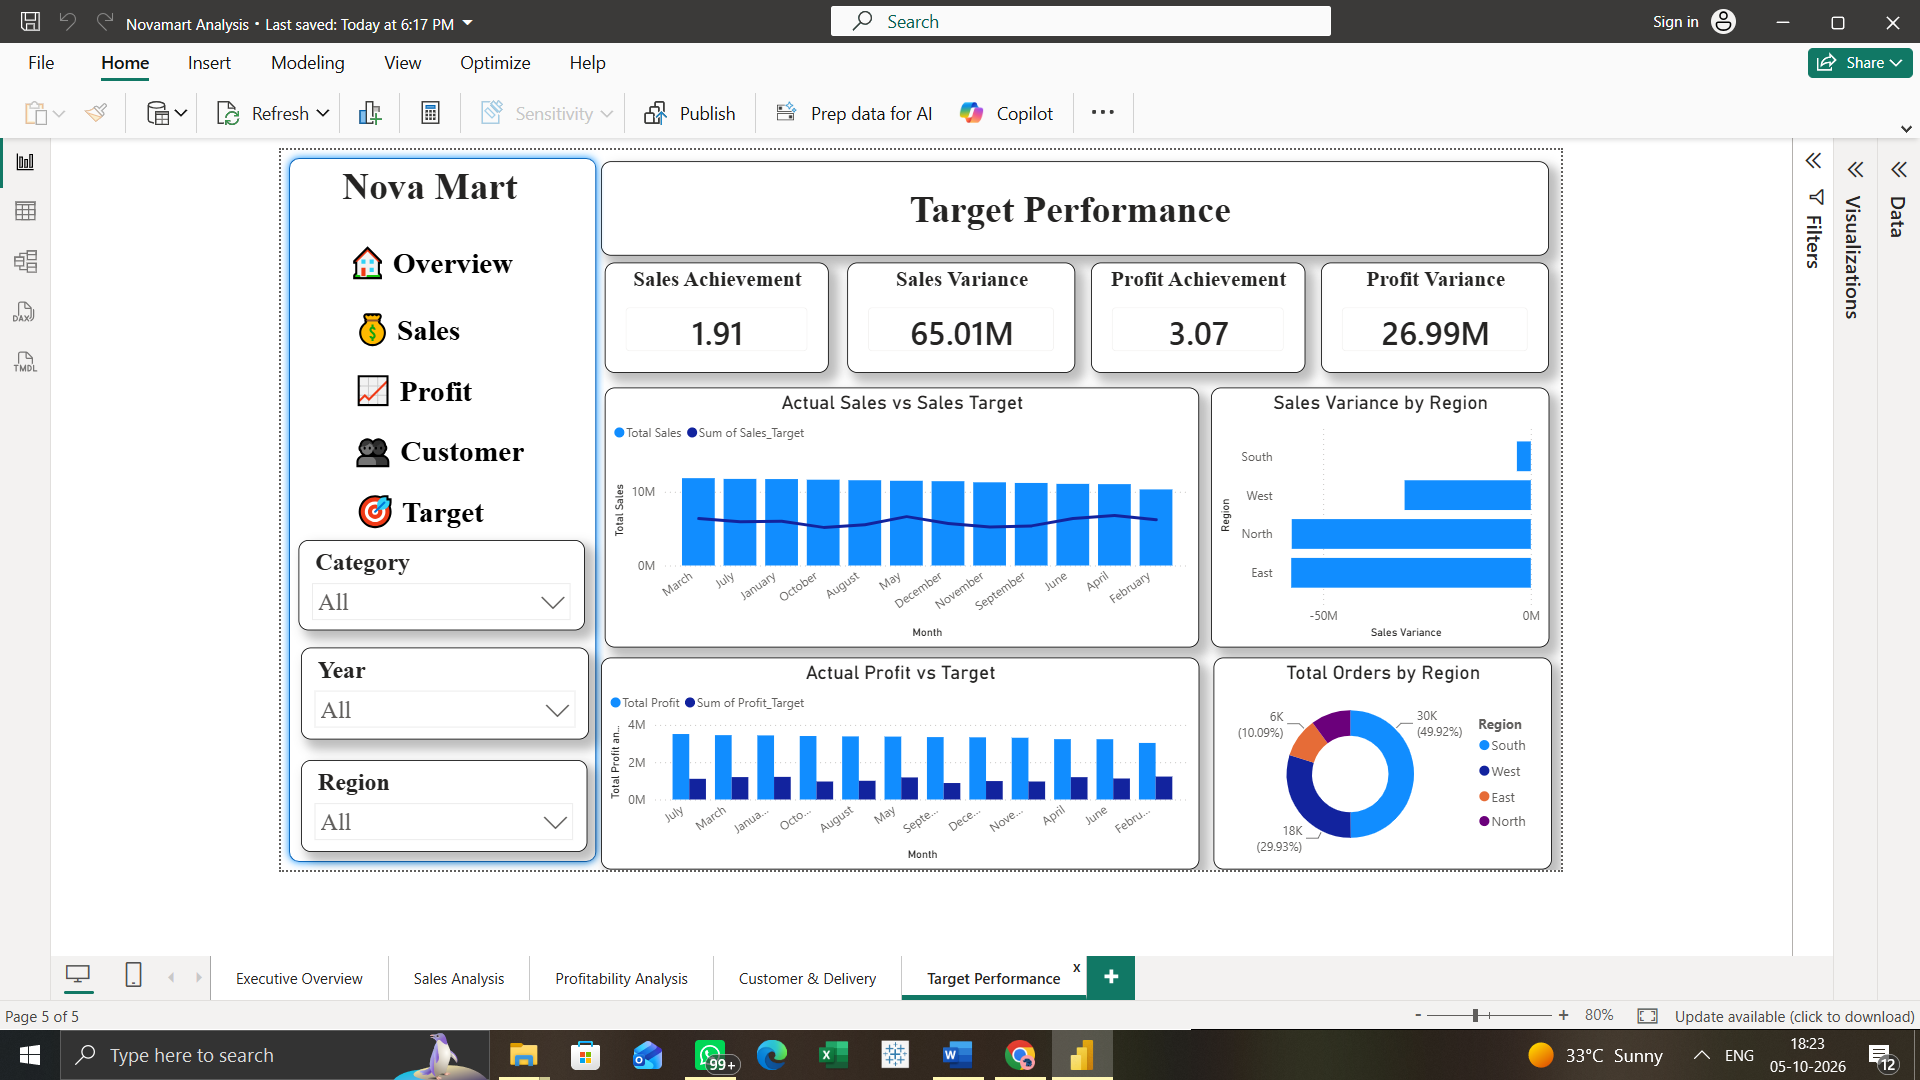

This screenshot's page, from the dashboard's own definition file:
{"tool":"powerbi","page":{"name":"Target Performance","canvas":[1280,720],"ordinal":4},"visuals":[{"type":"group","id":"g1","title":"Group 1","box":[0,0,1267.9,720],"z":0},{"type":"textbox","box":[319.7,11,948.2,94.7],"z":0,"group":"g1"},{"type":"shape","box":[0,0,323.3,720],"z":1000,"group":"g1"},{"type":"cardVisual","title":"Sales Achievement","fields":{"Data":["_Measures.Sales Achievement %"]},"box":[324,112,224,110],"z":1000},{"type":"textbox","box":[56,10,200,66],"z":2000,"group":"g1"},{"type":"cardVisual","title":"Sales Variance","fields":{"Data":["_Measures.Sales Variance"]},"box":[566,112,228,110],"z":2000},{"type":"actionButton","box":[58,76,186,70],"z":3000,"group":"g1"},{"type":"cardVisual","title":"Profit Variance","fields":{"Data":["_Measures.Profit Variance"]},"box":[1040,112,228,110],"z":3000},{"type":"cardVisual","title":"Profit Achievement","fields":{"Data":["_Measures.Profit Achievement %"]},"box":[810,112,214,110],"z":4000},{"type":"actionButton","box":[62,146,186,60],"z":4000,"group":"g1"},{"type":"actionButton","box":[46,206,172,64],"z":5000,"group":"g1"},{"type":"slicer","fields":{"Values":["Geography.Region"]},"box":[20,610,286,92],"z":5000},{"type":"actionButton","box":[58,270,200,56],"z":6000,"group":"g1"},{"type":"slicer","fields":{"Values":["Products.Category"]},"box":[18,390,286,90],"z":6000},{"type":"actionButton","box":[62,330,152,60],"z":7000,"group":"g1"},{"type":"slicer","fields":{"Values":["DateTable.Year"]},"box":[20,498,288,92],"z":7000},{"type":"lineStackedColumnComboChart","title":"Actual Sales vs Sales Target","fields":{"Category":["DateTable.Month"],"Y":["_Measures.Total Sales"],"Y2":["Sum(Targets.Sales_Target)"]},"box":[324,238,594,260],"z":8000},{"type":"lineClusteredColumnComboChart","title":"Actual Profit vs Target","fields":{"Category":["DateTable.Month"],"Y":["_Measures.Total Profit","Sum(Targets.Profit_Target)"]},"box":[320,508,598,212],"z":9000},{"type":"clusteredBarChart","fields":{"Category":["Geography.Region"],"Y":["_Measures.Sales Variance"]},"box":[930,238,338,260],"z":10000},{"type":"donutChart","fields":{"Y":["_Measures.Total Orders"],"Category":["Geography.Region"]},"box":[932,508,338,212],"z":11000}]}

Visuals, with their boxes on the page's 1280x720 design canvas (x1, y1, x2, y2). These are canvas units, not pixel positions in the 1920x1080 screenshot, which may show the page scaled, cropped or inside an application window:
"Group 1" group: (x1=0, y1=0, x2=1268, y2=720)
textbox: (x1=320, y1=11, x2=1268, y2=106)
shape: (x1=0, y1=0, x2=323, y2=720)
"Sales Achievement" cardVisual: (x1=324, y1=112, x2=548, y2=222)
textbox: (x1=56, y1=10, x2=256, y2=76)
"Sales Variance" cardVisual: (x1=566, y1=112, x2=794, y2=222)
actionButton: (x1=58, y1=76, x2=244, y2=146)
"Profit Variance" cardVisual: (x1=1040, y1=112, x2=1268, y2=222)
"Profit Achievement" cardVisual: (x1=810, y1=112, x2=1024, y2=222)
actionButton: (x1=62, y1=146, x2=248, y2=206)
actionButton: (x1=46, y1=206, x2=218, y2=270)
slicer - Geography.Region: (x1=20, y1=610, x2=306, y2=702)
actionButton: (x1=58, y1=270, x2=258, y2=326)
slicer - Products.Category: (x1=18, y1=390, x2=304, y2=480)
actionButton: (x1=62, y1=330, x2=214, y2=390)
slicer - DateTable.Year: (x1=20, y1=498, x2=308, y2=590)
"Actual Sales vs Sales Target" lineStackedColumnComboChart: (x1=324, y1=238, x2=918, y2=498)
"Actual Profit vs Target" lineClusteredColumnComboChart: (x1=320, y1=508, x2=918, y2=720)
clusteredBarChart - Geography.Region x _Measures.Sales Variance: (x1=930, y1=238, x2=1268, y2=498)
donutChart - _Measures.Total Orders x Geography.Region: (x1=932, y1=508, x2=1270, y2=720)
